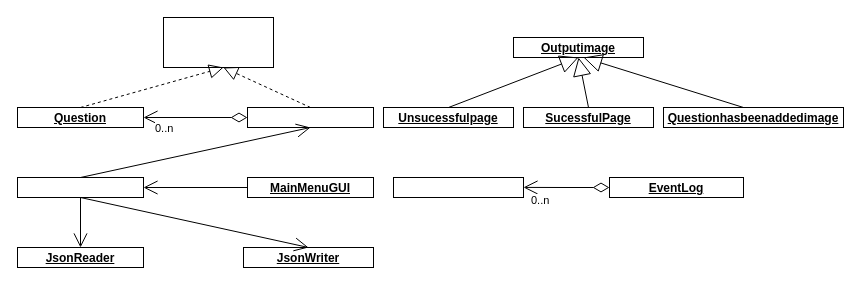
Image size: 861x285. Some labels were removed from this diagram. The centre of each missing label's shape, as x and y in pixels:
App: the point at 80,187
Event: the point at 458,187
ListOfQuestions: the point at 310,117
«interface» Writable: the point at 218,42
